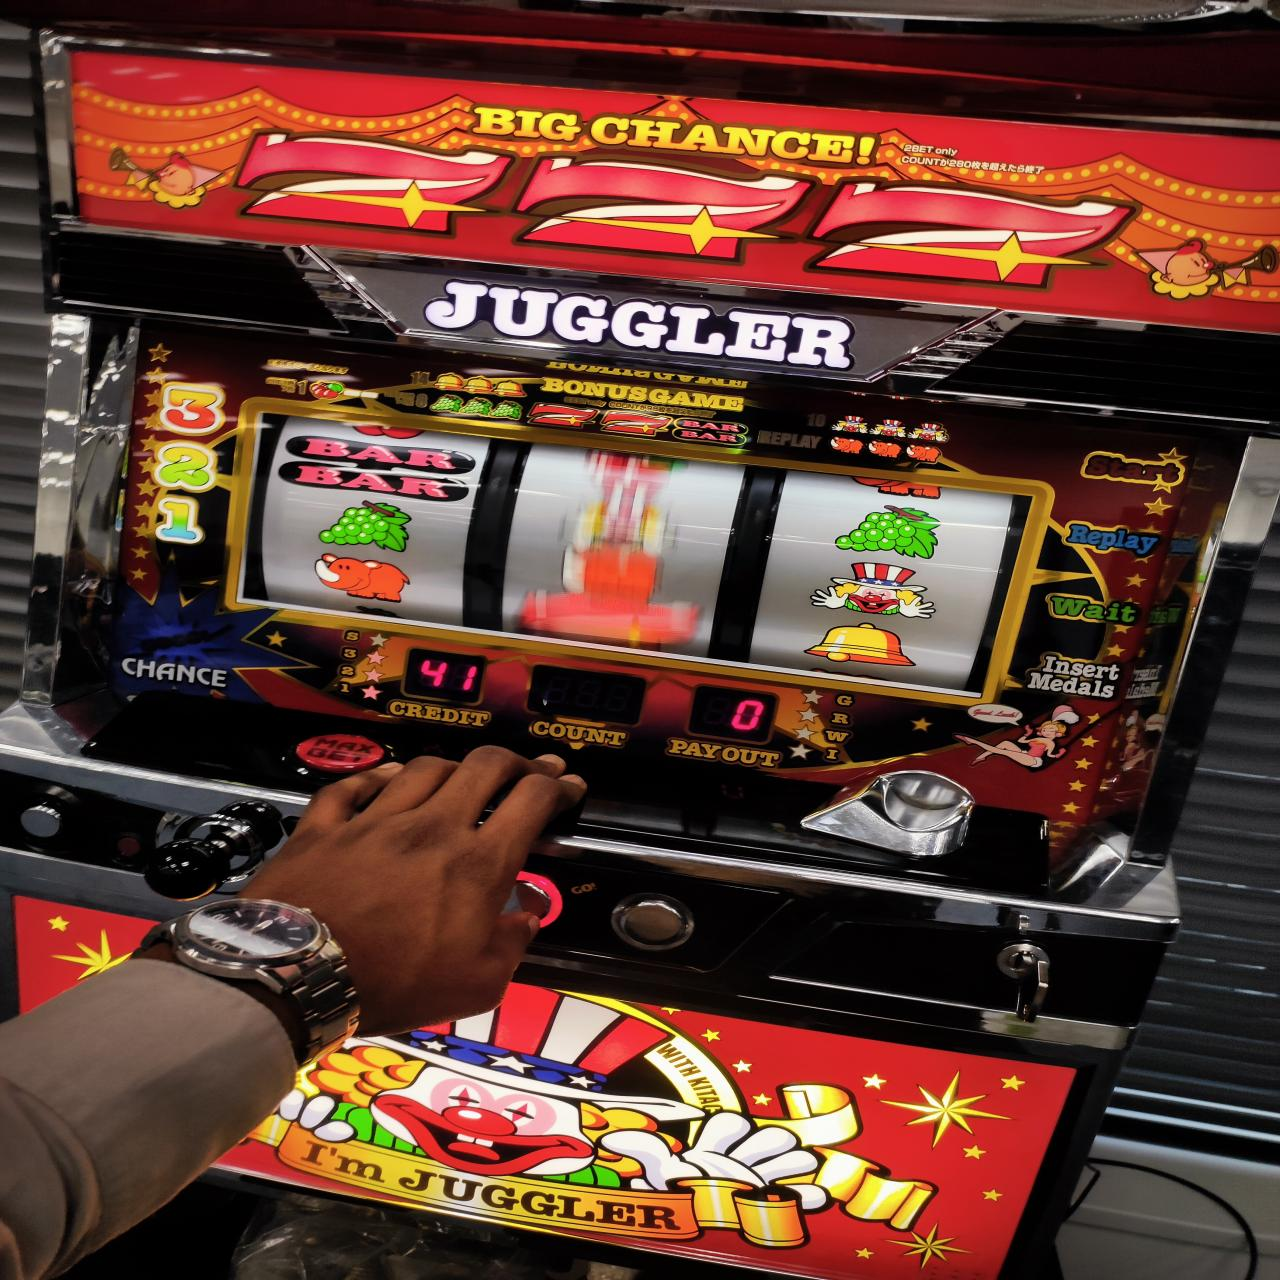8: (312, 552, 411, 602)
bar: (277, 434, 476, 503)
bell: (801, 620, 920, 668)
clown: (810, 561, 938, 622)
grape: (831, 501, 940, 558), (314, 497, 413, 551)
rhino: (258, 400, 1006, 710)
